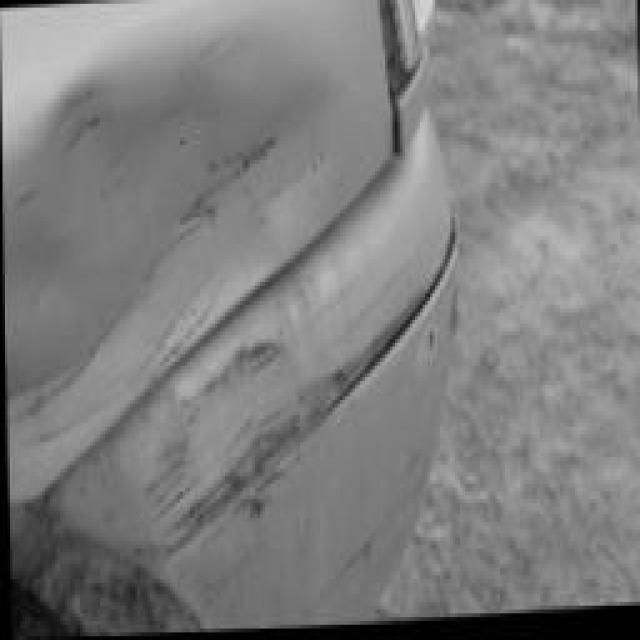Bumper: (18, 156, 543, 639)
Fender: (0, 0, 380, 450)
